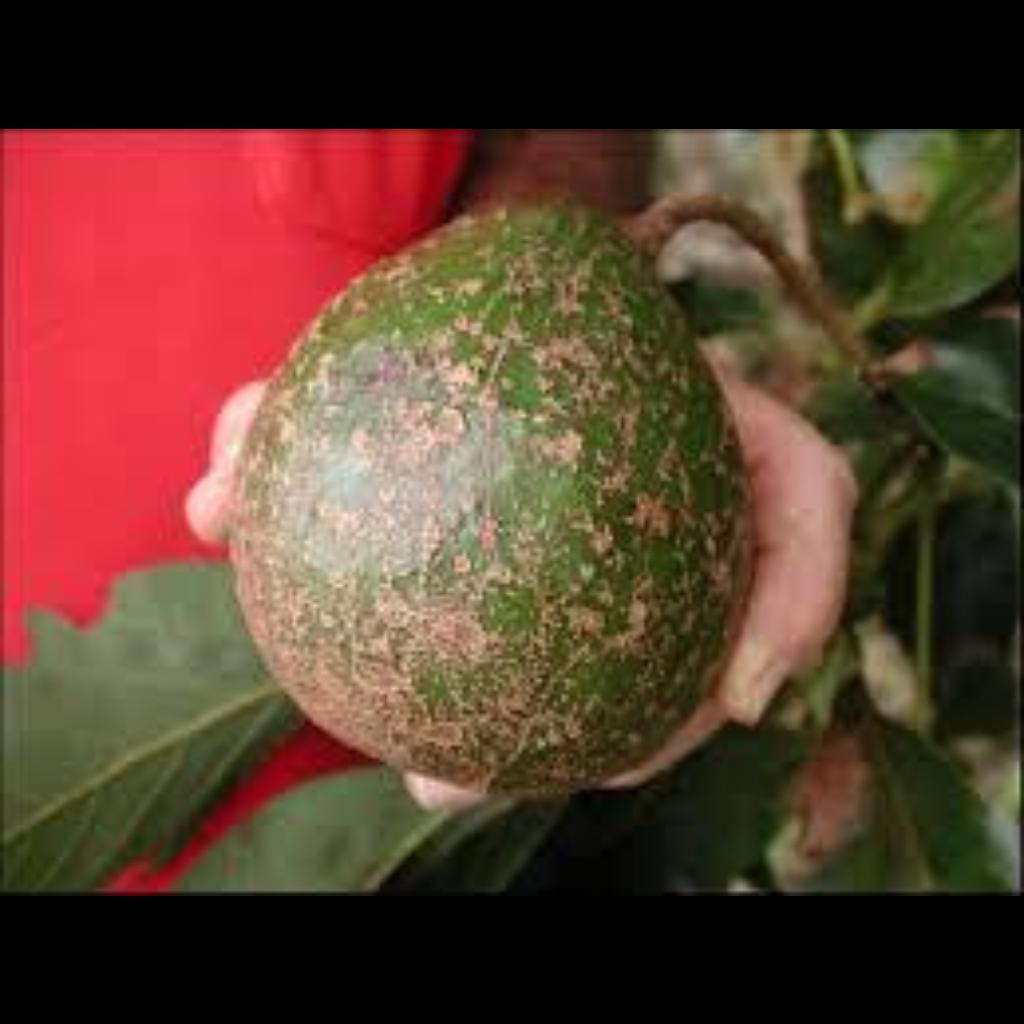cercospora: (213, 176, 759, 780)
